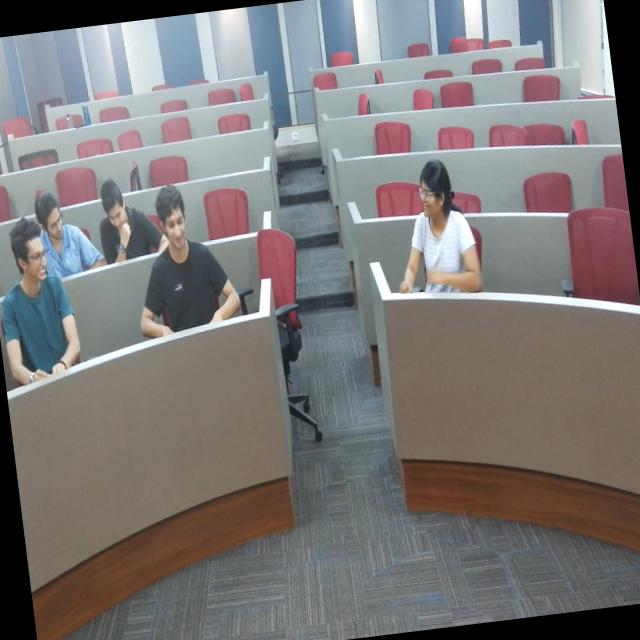cheating: (377, 156, 497, 310), (0, 214, 94, 395)
